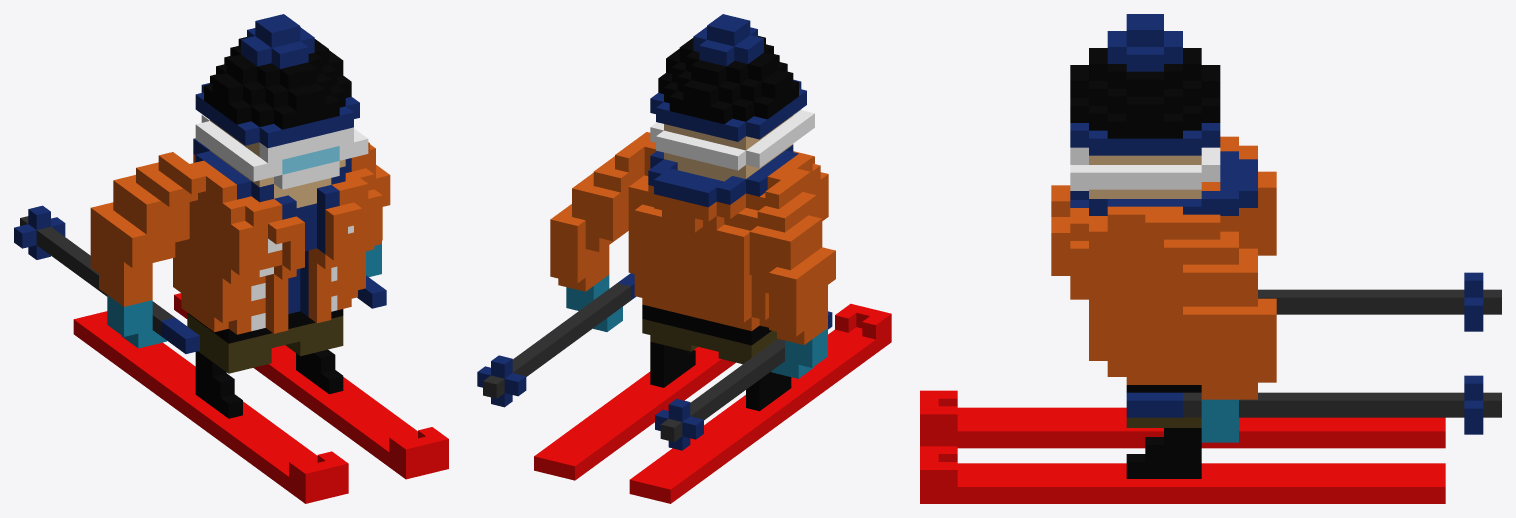
File: Saut_2_Frame_04.obj
The picture shows the model from 3 angles, left to right: view 1: azimuth 30°, elevation 25°; view 2: azimuth 150°, elevation 25°; view 3: azimuth 270°, elevation 25°; orthographic projection. The views are drawn at different scales.
Size of the model in its own units: 18 by 26 by 31.
1 material, 1 textured.
